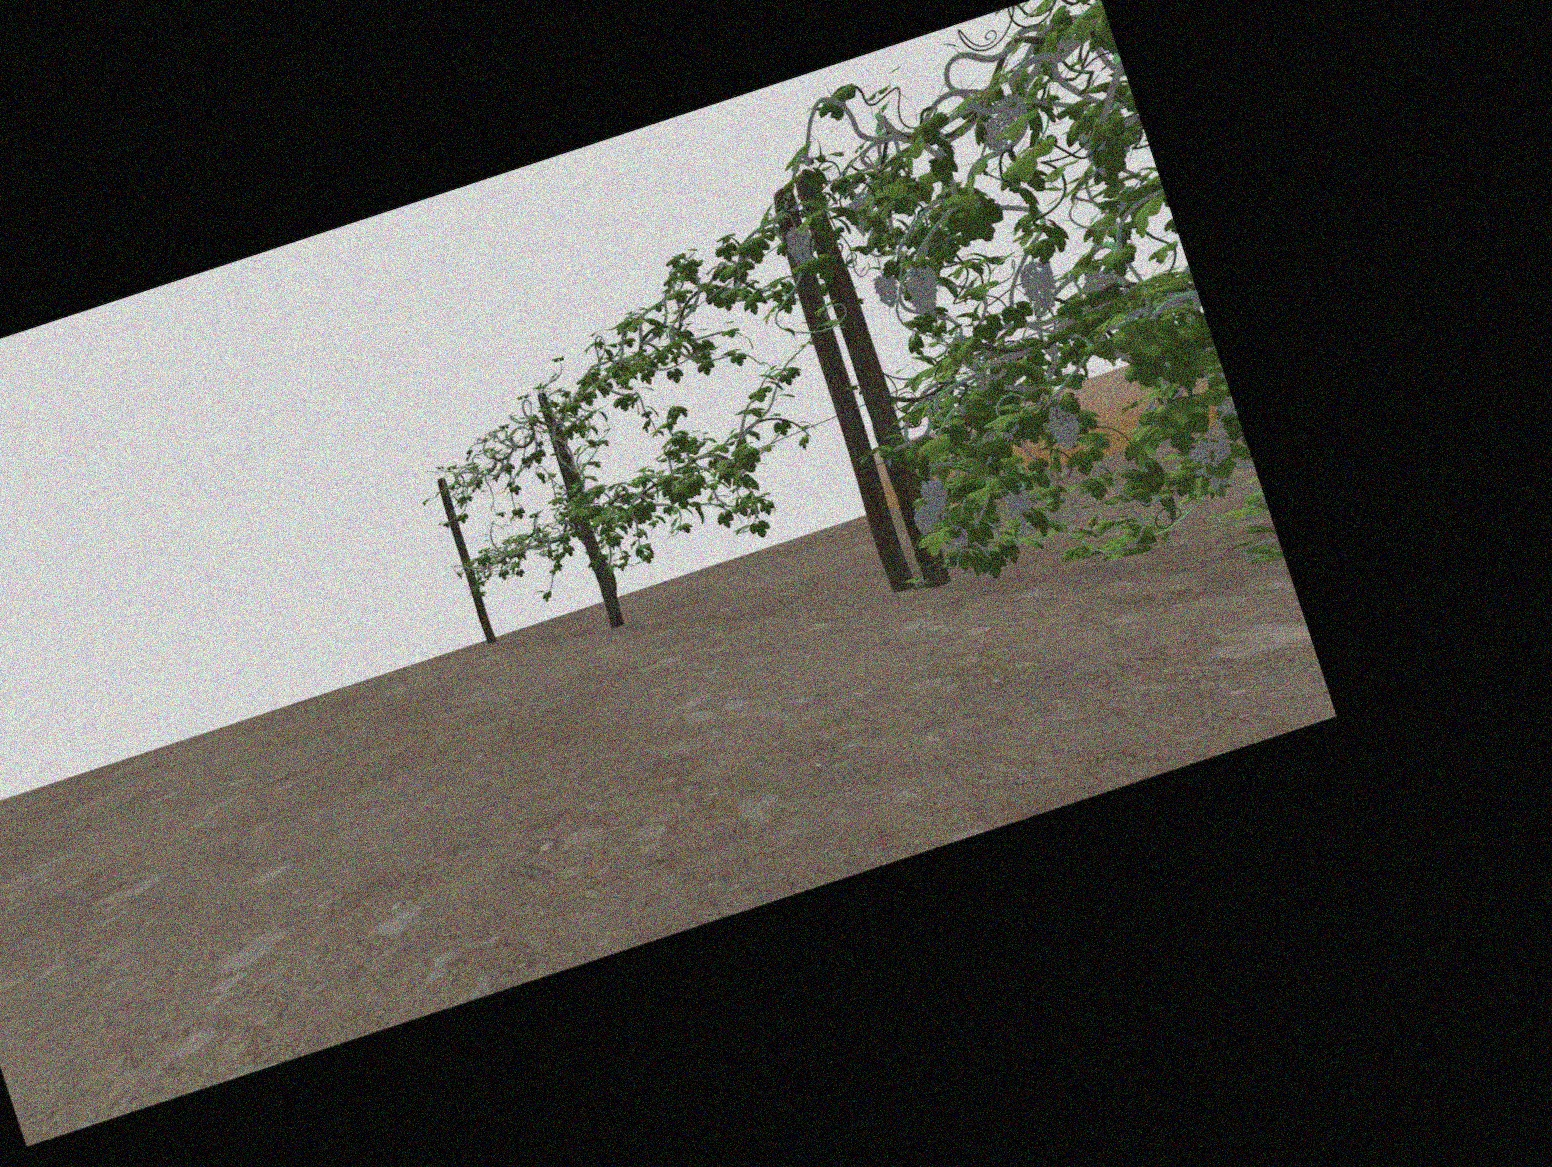grape: (1022, 260, 1057, 311), (908, 265, 939, 317), (1047, 405, 1080, 450), (1192, 436, 1230, 466), (786, 227, 813, 264), (981, 116, 1010, 148), (1006, 485, 1033, 519), (873, 275, 899, 306), (922, 479, 946, 512), (915, 507, 939, 534)
